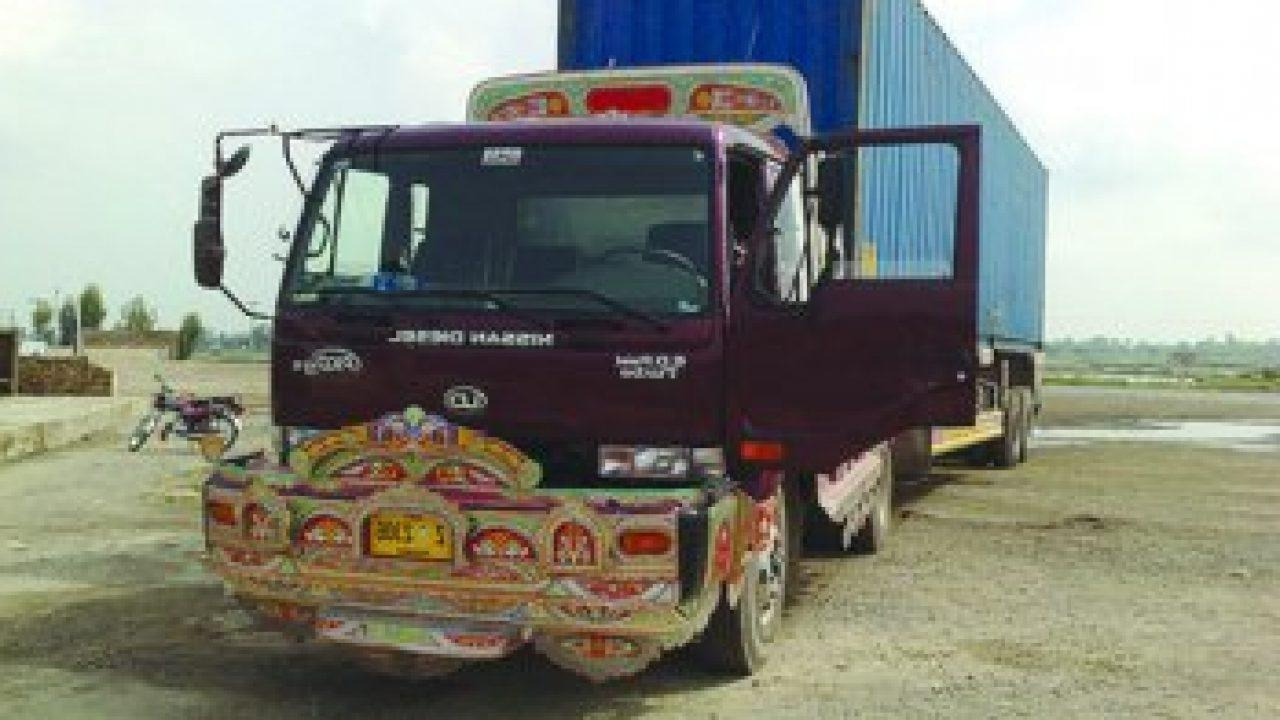truck: (189, 0, 1049, 681)
